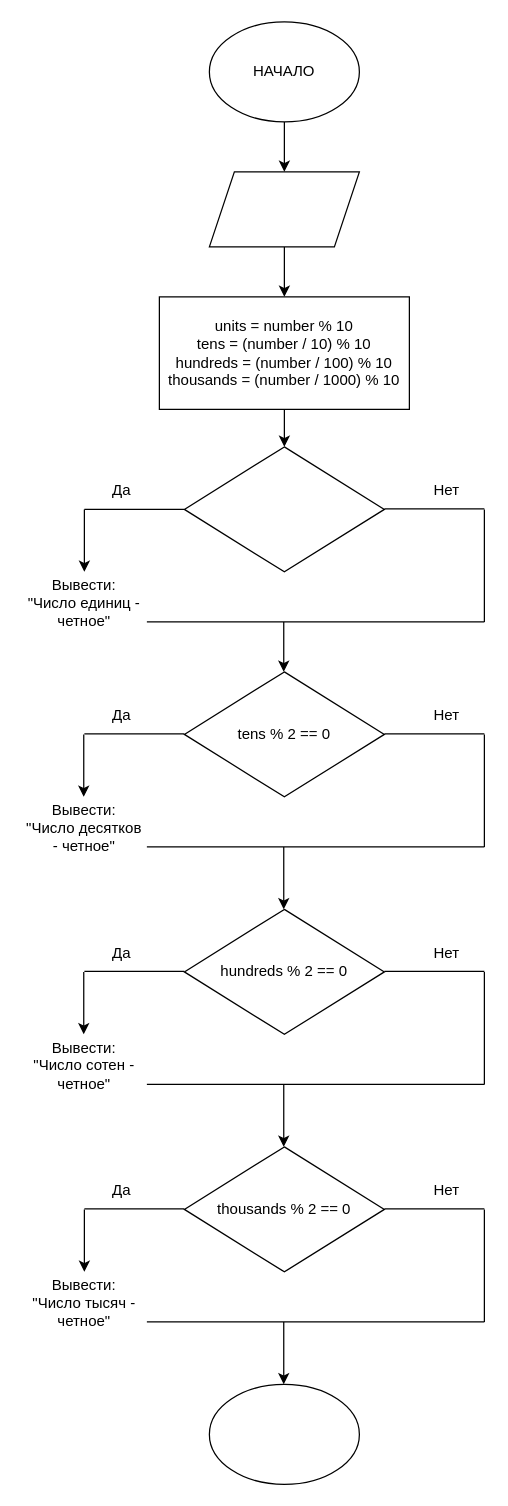
This 508x1506 diagram has some shape labels left out. The box of each missing label's shape, as (x1, y1, x2, y2) in pixels:
units % 2 == 0: (183, 446, 384, 572)
Ввести number: (208, 171, 359, 247)
КОНЕЦ: (208, 1383, 359, 1484)
